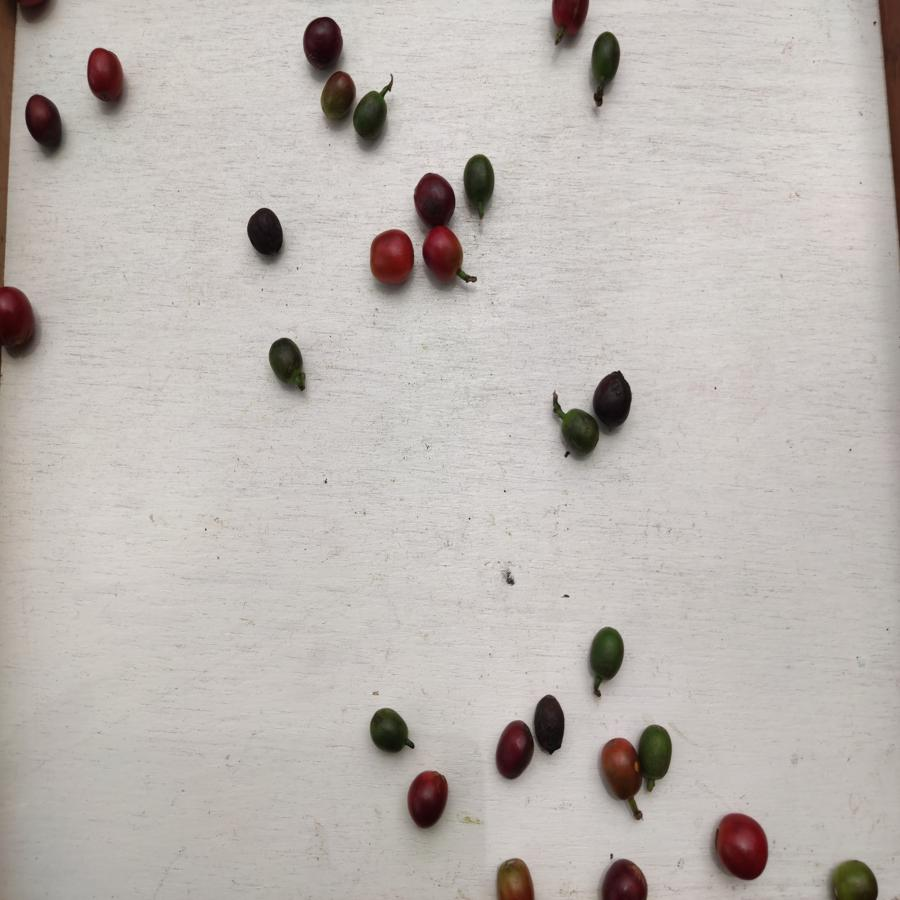Inmaduro: (635, 724, 676, 783), (588, 623, 625, 683), (460, 150, 496, 206), (558, 408, 598, 457), (368, 709, 411, 754), (352, 91, 389, 142), (589, 29, 621, 84), (270, 338, 304, 384)
Maduro: (715, 810, 768, 881), (365, 228, 419, 282), (419, 227, 467, 282), (1, 285, 35, 352), (85, 48, 125, 104), (548, 1, 588, 34)
Pinton: (600, 736, 638, 805), (829, 859, 883, 900), (494, 854, 535, 900), (318, 72, 354, 120)
Sobremaduro: (407, 768, 453, 829), (20, 92, 65, 151), (496, 719, 534, 784), (592, 373, 635, 430), (599, 856, 654, 900), (414, 173, 458, 227), (300, 17, 346, 67), (246, 204, 288, 254), (534, 695, 564, 758)
